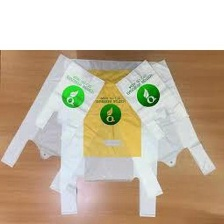plastic_bag: (55, 57, 163, 220), (105, 58, 217, 198), (0, 50, 95, 198), (32, 59, 106, 147), (113, 56, 191, 138)
